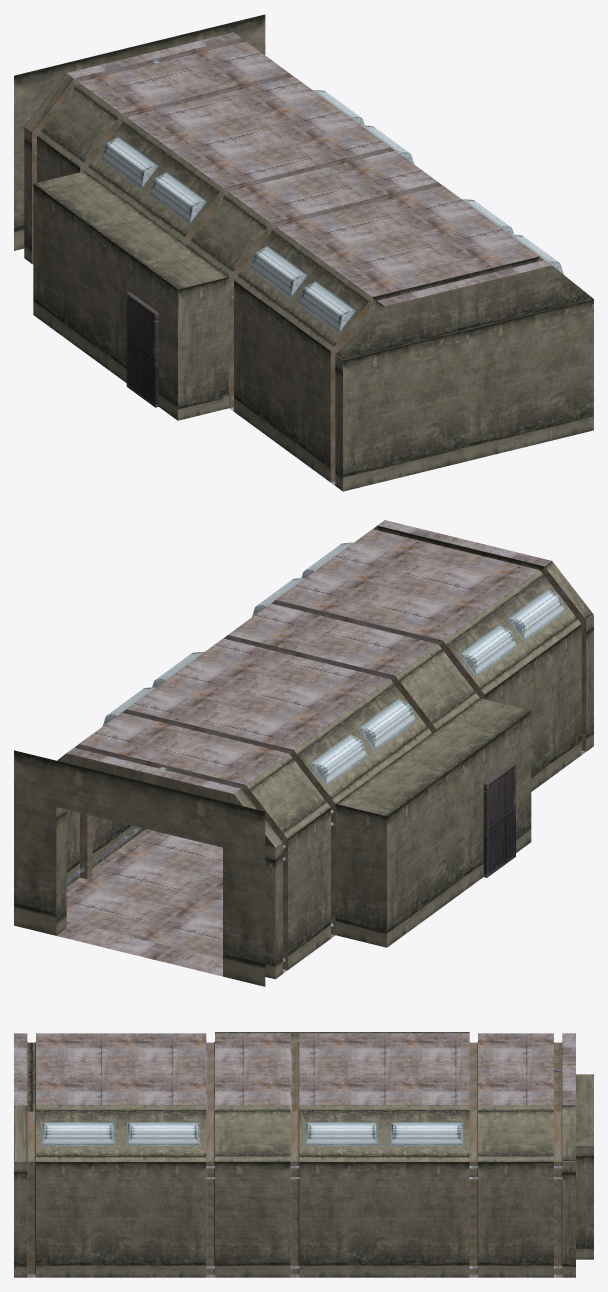
File: bombshop.obj
3 views of the same model, one above another, from view 1: azimuth 30°, elevation 25°; view 2: azimuth 150°, elevation 25°; view 3: azimuth 270°, elevation 25° (orthographic). The views are drawn at different scales.
Parts seen in each view (by area): view 1: bombshop; view 2: bombshop; view 3: bombshop.
Part boxes in pixels (left/top/right/bottom): bombshop: left=14, top=14, right=593, bottom=491; bombshop: left=14, top=520, right=593, bottom=986; bombshop: left=14, top=1032, right=593, bottom=1277.
Bounding box in the file's own units: 7.31 × 4 × 13.61.
Materials: 9 (9 with a texture image).
